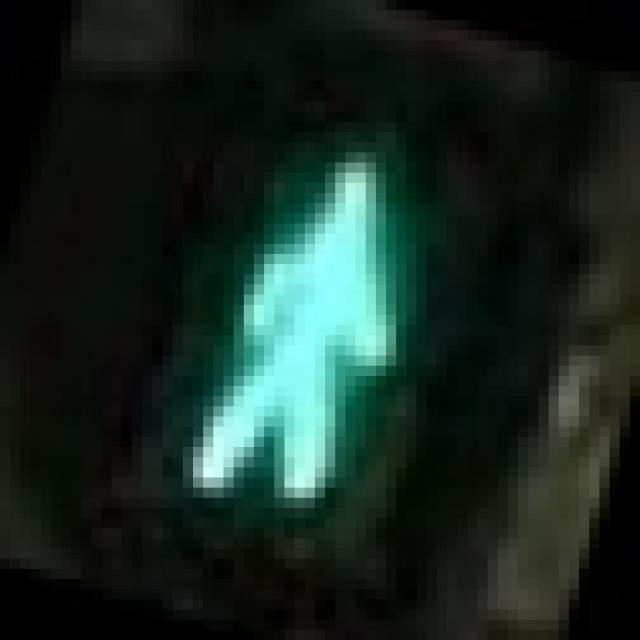geen-crossing: (101, 61, 508, 559)
